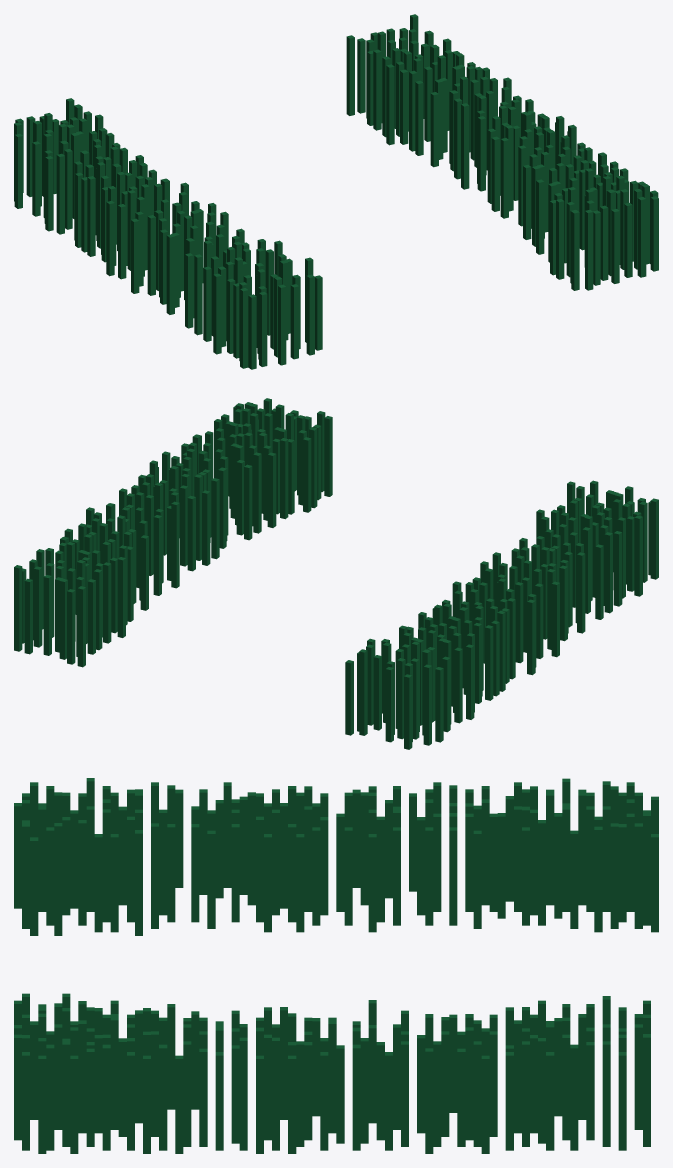
File: river_plants_5_overtile.obj
3 renders of one model, top to bottom at view 1: azimuth 30°, elevation 25°; view 2: azimuth 150°, elevation 25°; view 3: azimuth 270°, elevation 25°, orthographic. The views are drawn at different scales.
Size of the model in its own units: 8 by 1.6 by 8.
Materials: 1 (1 with a texture image).
